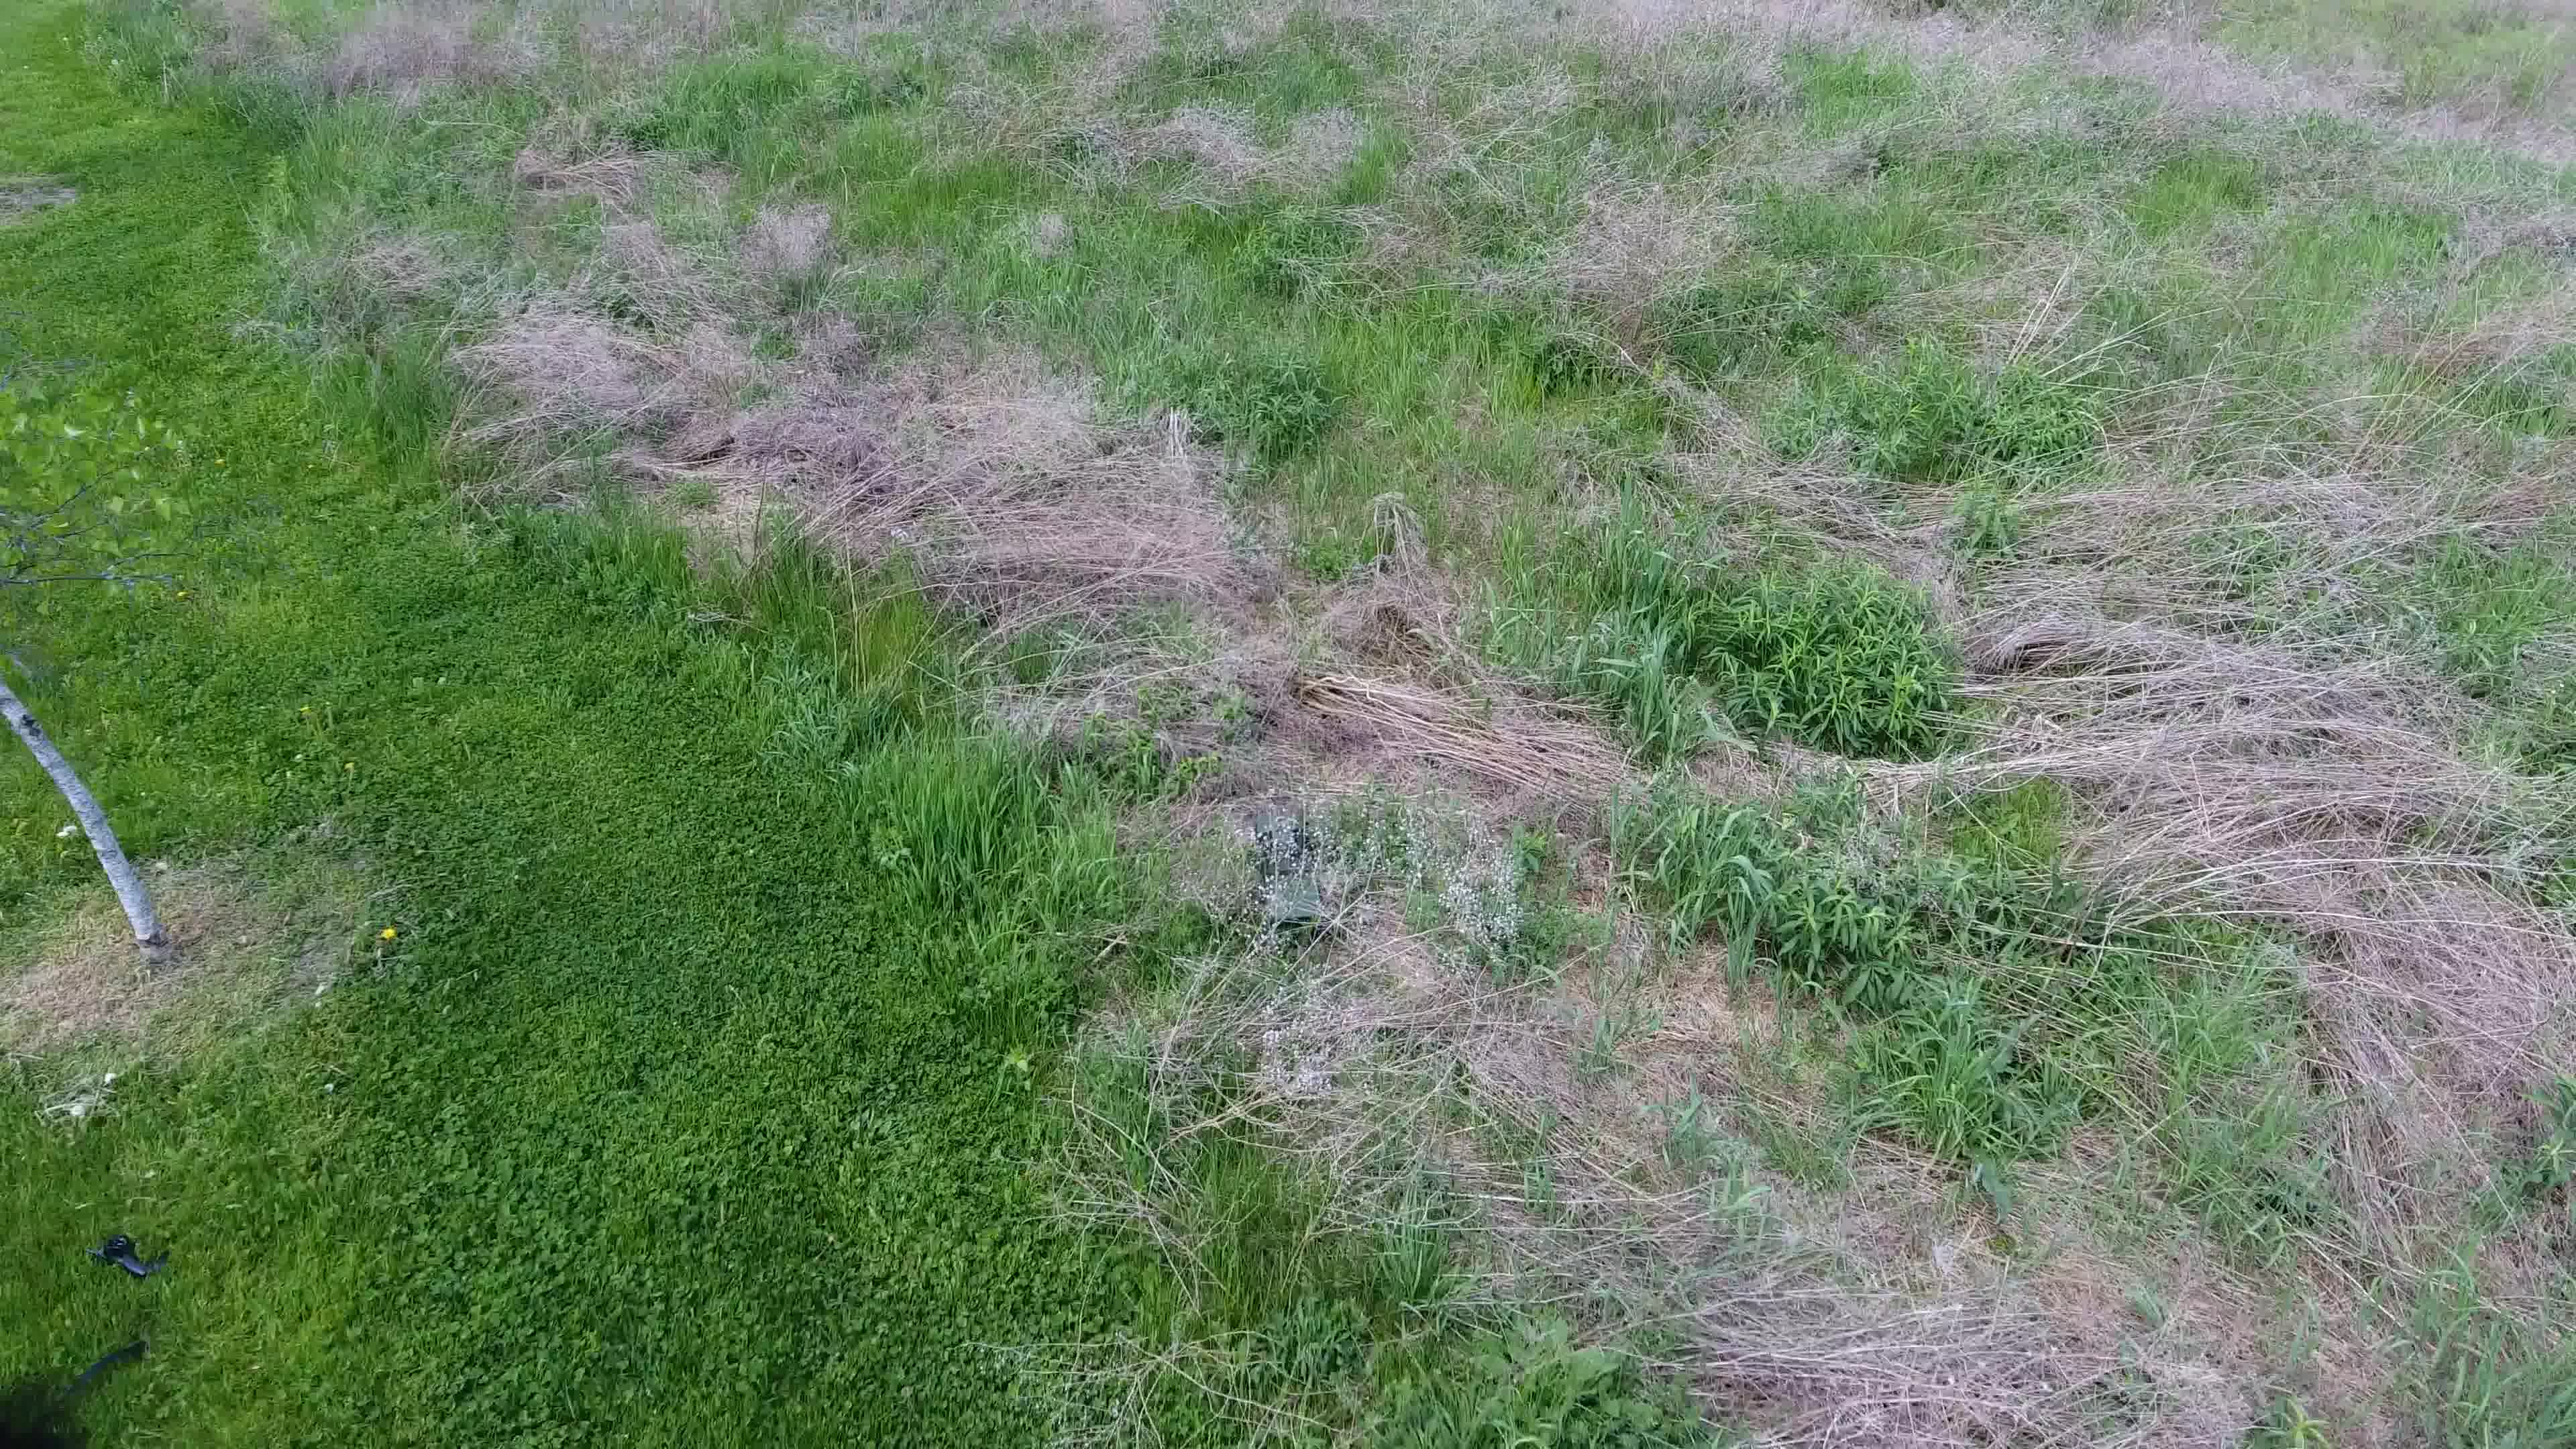transporter9: (1251, 823, 1318, 932)
